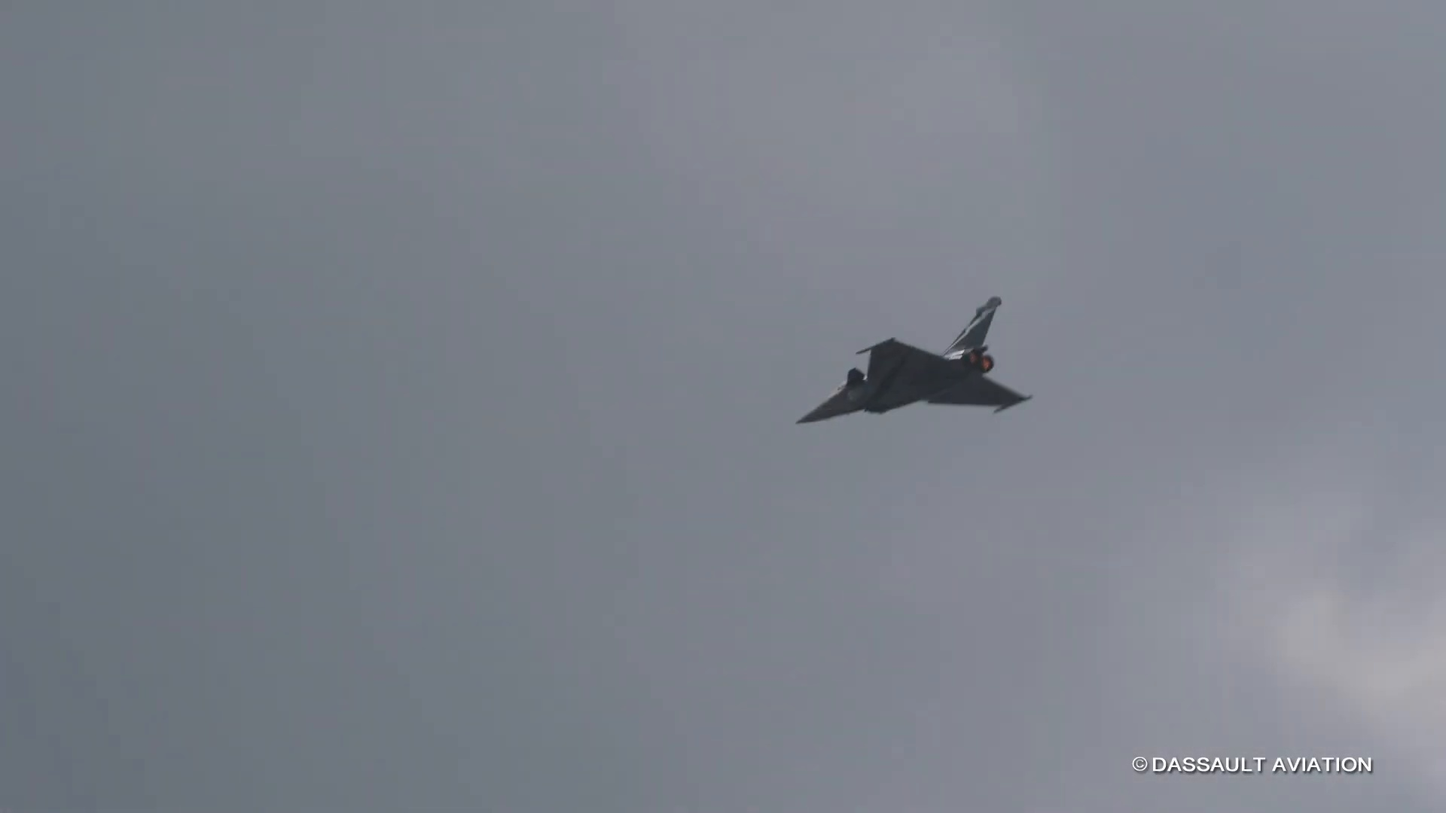Rafale: (794, 293, 1032, 430)
